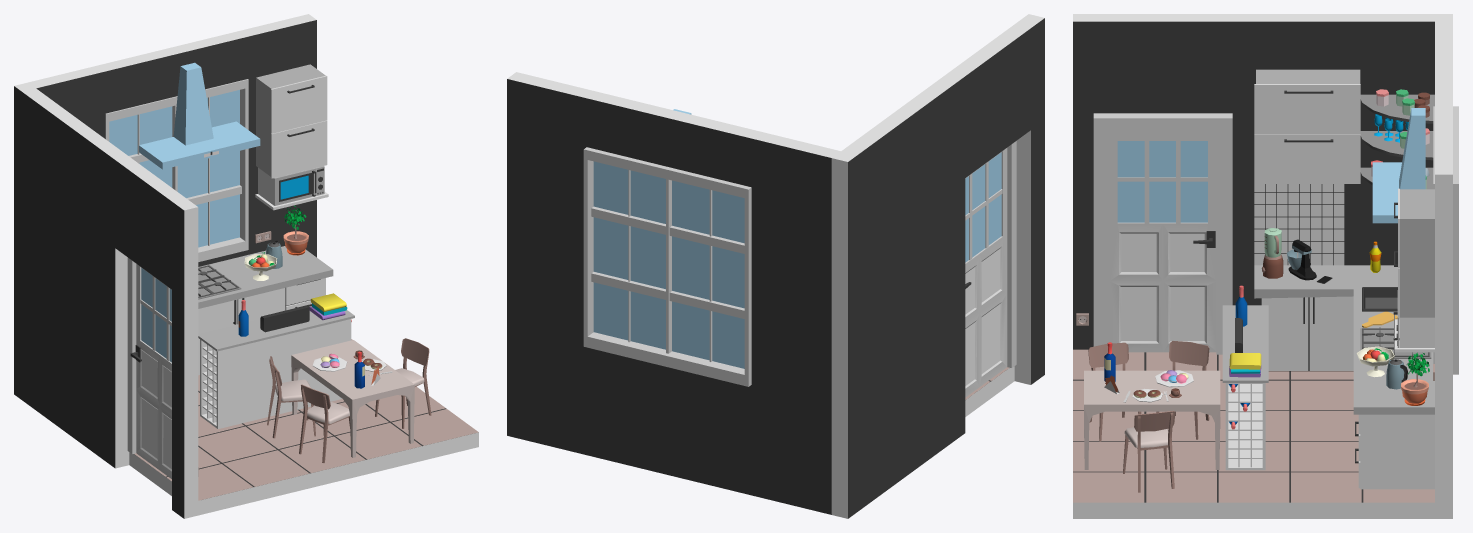
Rendered from room_11.glb.
3 views of the same model, side by side, from view 1: azimuth 30°, elevation 25°; view 2: azimuth 150°, elevation 25°; view 3: azimuth 270°, elevation 25° (orthographic). The views are drawn at different scales.
Visible parts, largest first — view 1: Walls_011.007, floor_020.001, window_018.001, kitchen_item_001.001, Walls_011.003, kitchen_item_048.001, kitchen_item_047.001, Walls_011.002, door_023.001, Walls_011.006, Walls_011.001, Walls_011.008 (+12 smaller); view 2: Walls_011.007, window_018.001, Walls_011.004, Walls_011.002, Walls_011.005, Walls_011.006, door_023.001, Walls_011.003, Walls_011.008, door_024.001, Walls_011.001; view 3: floor_020.001, Walls_011.007, door_023.001, kitchen_item_047.001, Walls_011.008, kitchen_item_048.002, door_024.001, Walls_011.001, Walls_011.003, Walls_011.002, floor_014.003, kitchen_item_001.001 (+18 smaller).
Boxes of the visible parts, bbox=[...] form: Walls_011.007: bbox=[14, 82, 129, 468]; floor_020.001: bbox=[134, 339, 478, 500]; window_018.001: bbox=[105, 79, 248, 261]; kitchen_item_001.001: bbox=[198, 306, 354, 428]; Walls_011.003: bbox=[172, 198, 198, 518]; kitchen_item_048.001: bbox=[256, 64, 327, 178]; kitchen_item_047.001: bbox=[198, 246, 333, 375]; Walls_011.002: bbox=[239, 14, 316, 257]; door_023.001: bbox=[130, 264, 171, 478]; Walls_011.006: bbox=[98, 31, 246, 113]; Walls_011.001: bbox=[129, 391, 478, 515]; Walls_011.008: bbox=[115, 156, 185, 289]; Walls_011.007: bbox=[831, 72, 965, 518]; window_018.001: bbox=[583, 147, 751, 386]; Walls_011.004: bbox=[750, 131, 840, 514]; Walls_011.002: bbox=[507, 72, 597, 455]; Walls_011.005: bbox=[588, 348, 750, 494]; Walls_011.006: bbox=[588, 92, 759, 186]; door_023.001: bbox=[965, 148, 1007, 397]; Walls_011.003: bbox=[1014, 14, 1044, 384]; Walls_011.008: bbox=[949, 24, 1030, 177]; door_024.001: bbox=[1007, 141, 1016, 367]; Walls_011.001: bbox=[965, 366, 1014, 416]; floor_020.001: bbox=[1073, 349, 1434, 502]; Walls_011.007: bbox=[1226, 14, 1452, 305]; door_023.001: bbox=[1109, 132, 1216, 352]; kitchen_item_047.001: bbox=[1254, 265, 1434, 489]; Walls_011.008: bbox=[1100, 14, 1226, 113]; kitchen_item_048.002: bbox=[1254, 69, 1360, 183]; door_024.001: bbox=[1093, 113, 1232, 354]; Walls_011.001: bbox=[1073, 352, 1434, 518]; Walls_011.003: bbox=[1073, 14, 1099, 349]; Walls_011.002: bbox=[1435, 136, 1452, 518]; floor_014.003: bbox=[1254, 184, 1344, 265]; kitchen_item_001.001: bbox=[1222, 305, 1268, 470].
Bounding box in the file's own units: 4.2 × 4.2 × 4.27.
1 material, 1 textured.
